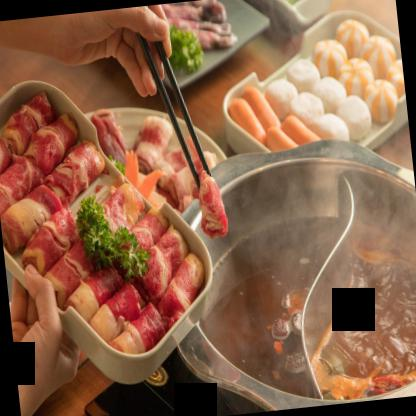beef: (0, 179, 67, 252), (62, 258, 127, 328), (42, 140, 104, 208), (16, 214, 80, 278), (157, 250, 210, 326), (138, 224, 192, 298), (42, 240, 96, 313), (22, 108, 80, 172), (88, 283, 150, 342), (108, 299, 167, 358), (1, 88, 53, 154), (92, 178, 146, 240), (0, 153, 39, 221), (124, 207, 166, 264), (194, 170, 228, 238), (0, 132, 12, 189)
